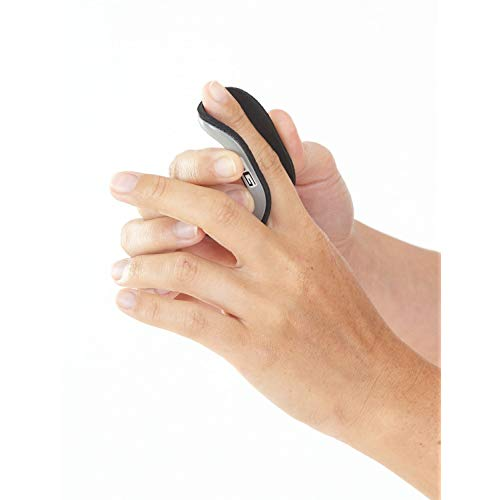finger: (199, 79, 319, 212), (111, 165, 271, 255), (106, 285, 247, 350), (101, 254, 250, 303), (118, 215, 209, 254), (167, 149, 241, 186)
